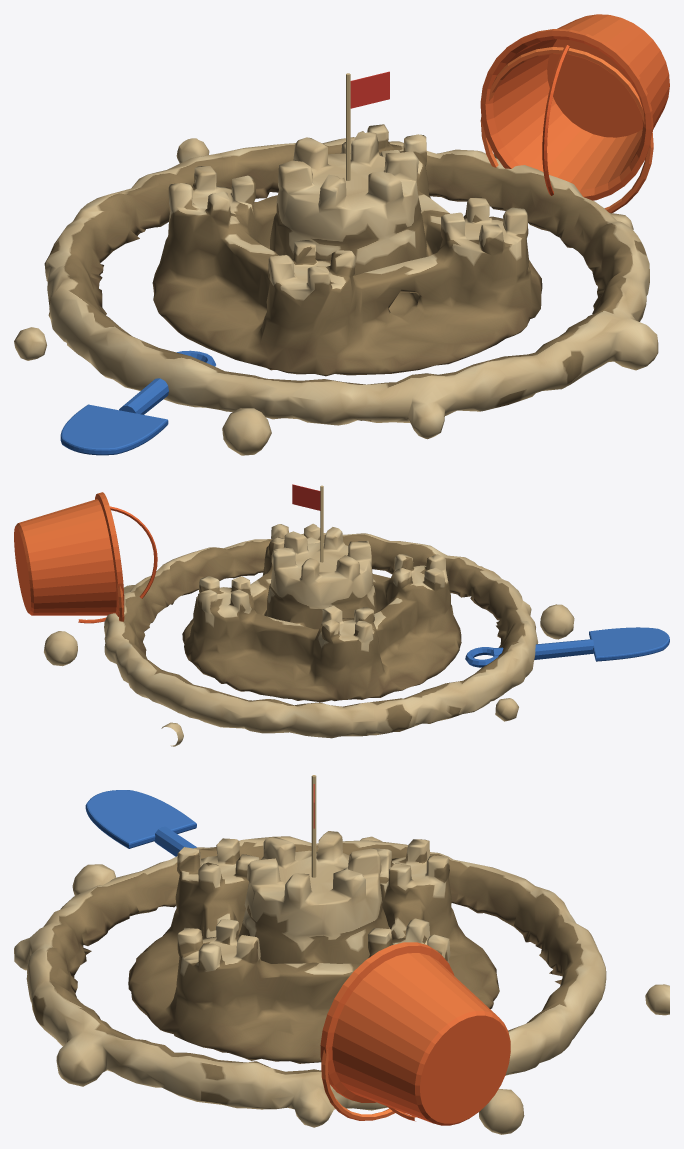
The model's file is sandcastle.glb.
The picture shows the model from 3 angles, top to bottom: view 1: azimuth 30°, elevation 25°; view 2: azimuth 150°, elevation 25°; view 3: azimuth 270°, elevation 25°; orthographic projection. The views are drawn at different scales.
Parts seen in each view (by area): view 1: sand, plastic; view 2: sand, plastic; view 3: sand, plastic.
Boxes of the visible parts, box(x1,y1,x2,y2) form: sand: box(14, 124, 658, 455); plastic: box(60, 14, 669, 455); sand: box(44, 523, 574, 746); plastic: box(14, 484, 669, 667); sand: box(14, 831, 669, 1134); plastic: box(85, 775, 510, 1125).
Size of the model in its own units: 0.9315 by 0.2868 by 0.7325.
2 materials, 2 textured.
